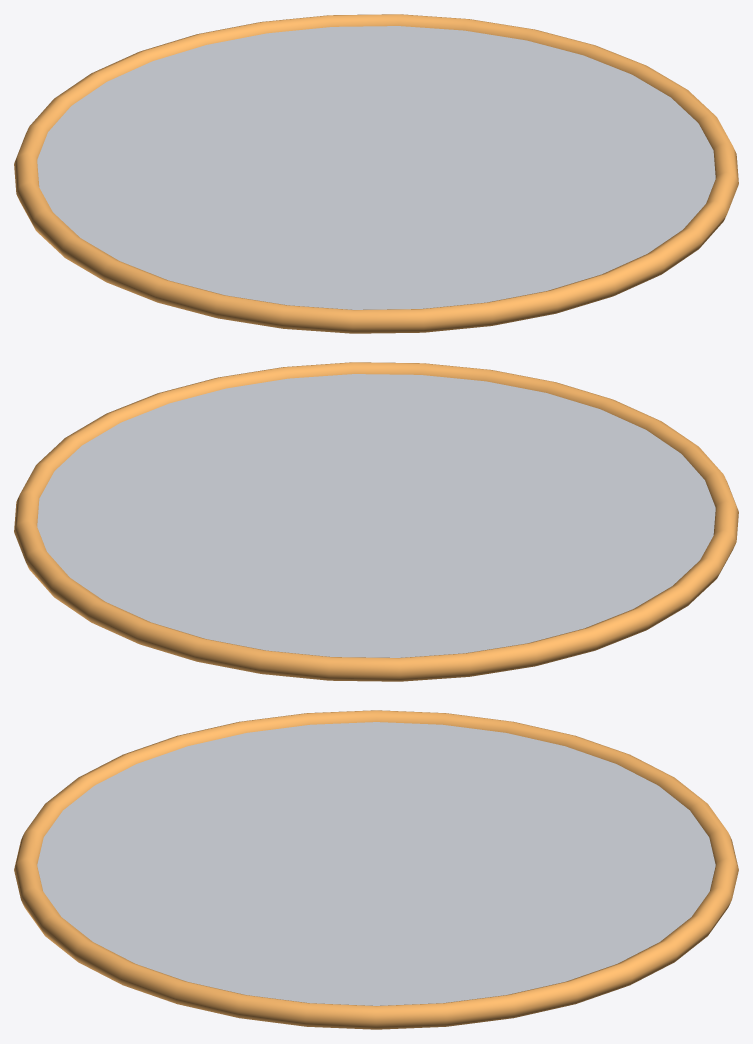
Rendered from ember_left.glb.
The picture shows the model from 3 angles, top to bottom: view 1: azimuth 30°, elevation 25°; view 2: azimuth 150°, elevation 25°; view 3: azimuth 270°, elevation 25°; orthographic projection.
Parts seen in each view (by area): view 1: ember_left; view 2: ember_left; view 3: ember_left.
Boxes of the visible parts, bbox=[...] form: ember_left: bbox=[14, 14, 738, 333]; ember_left: bbox=[14, 362, 738, 681]; ember_left: bbox=[14, 710, 738, 1029].
Size of the model in its own units: 0.86 by 0.03 by 0.86.
